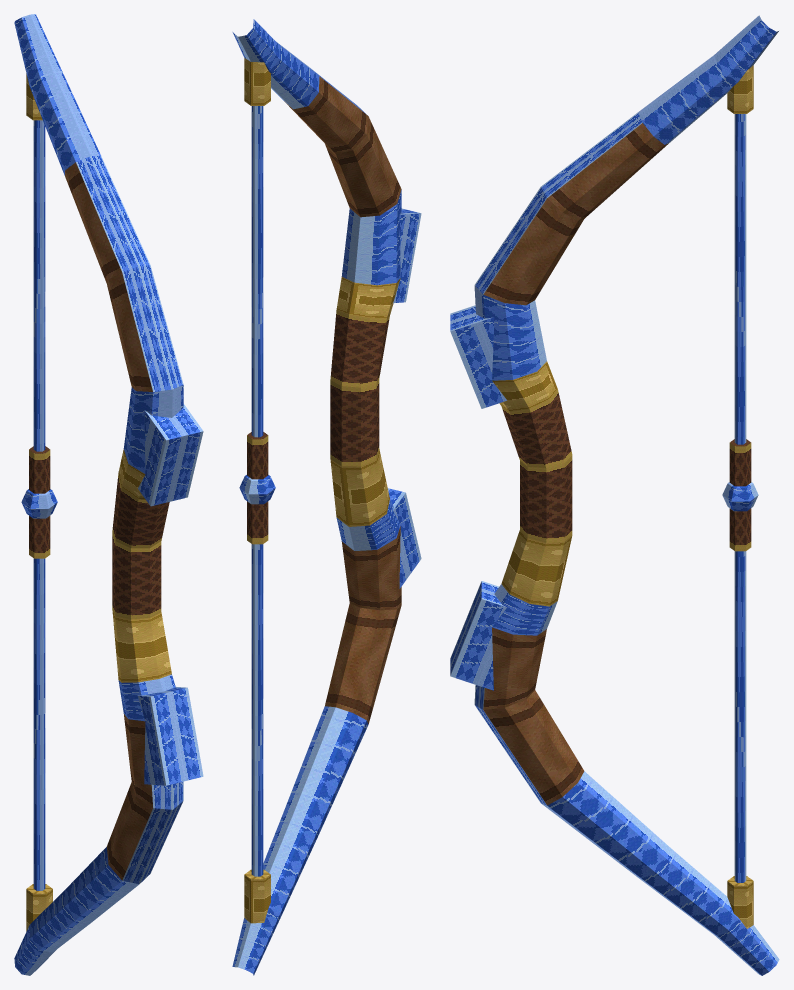
File: arco_de_safira.glb
3 renders of one model, left to right at view 1: azimuth 30°, elevation 25°; view 2: azimuth 150°, elevation 25°; view 3: azimuth 270°, elevation 25°, orthographic.
Visible parts, largest first — view 1: arco_de_safira; view 2: arco_de_safira; view 3: arco_de_safira.
Boxes of the visible parts, x1,y1,x2,y2 form: arco_de_safira: (14, 14, 203, 975); arco_de_safira: (232, 19, 421, 975); arco_de_safira: (450, 15, 779, 975).
Size of the model in its own units: 0.07 by 1.28 by 0.3981.
Materials: 1 (1 with a texture image).
